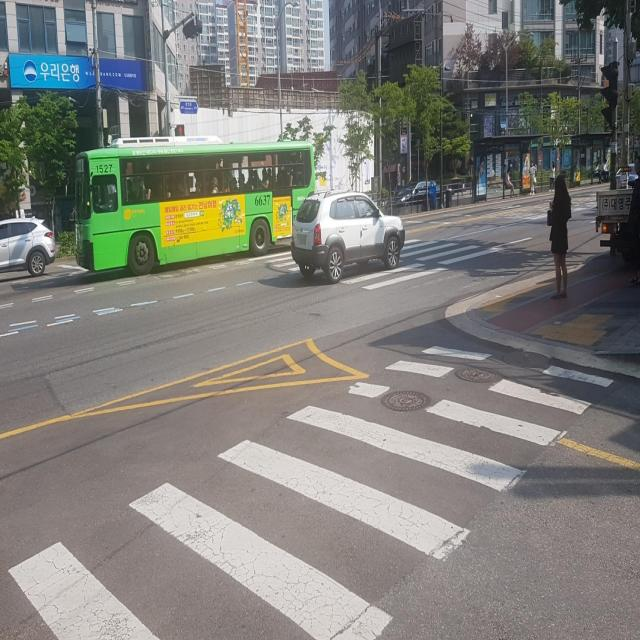횡단보도: (4, 337, 618, 640), (244, 232, 529, 292)
